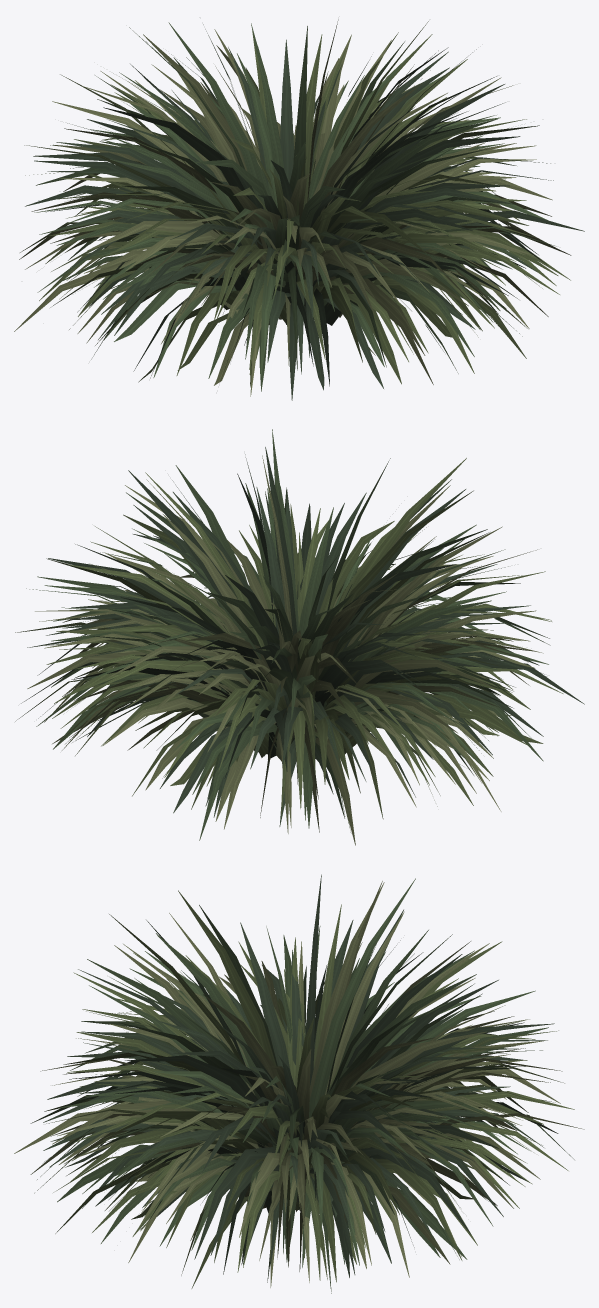
File: alpine_tussock_v03.fbx
3 renders of one model, top to bottom at view 1: azimuth 30°, elevation 25°; view 2: azimuth 150°, elevation 25°; view 3: azimuth 270°, elevation 25°, orthographic. The views are drawn at different scales.
Parts seen in each view (by area): view 1: alpine_tussock_v03; view 2: alpine_tussock_v03; view 3: alpine_tussock_v03.
Boxes of the visible parts, x1=… form: alpine_tussock_v03: x1=14, y1=19, x2=584, y2=400; alpine_tussock_v03: x1=15, y1=429, x2=584, y2=845; alpine_tussock_v03: x1=14, y1=874, x2=584, y2=1293.
Size of the model in its own units: 40.69 by 41.06 by 20.63.
1 material, 1 textured.
